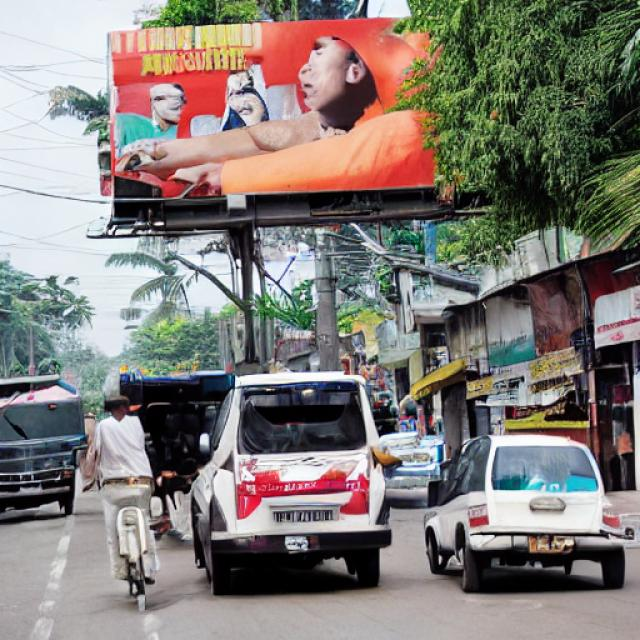Billboard: (106, 7, 484, 237)
